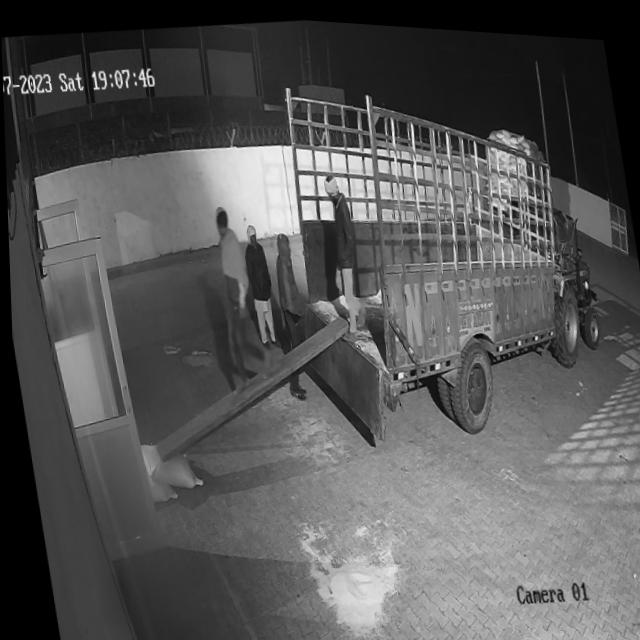sack: (137, 435, 199, 490)
